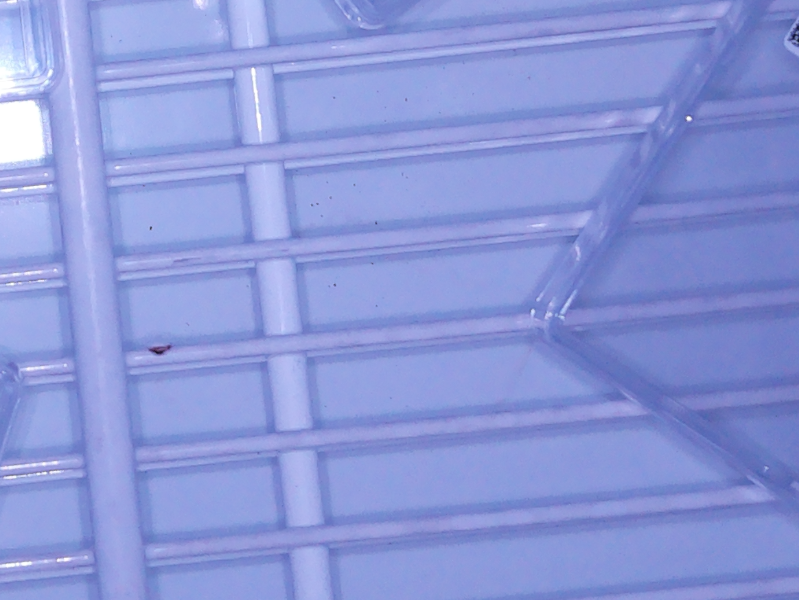plate: (529, 1, 799, 512), (1, 1, 67, 102), (324, 1, 415, 33), (1, 354, 26, 462)
